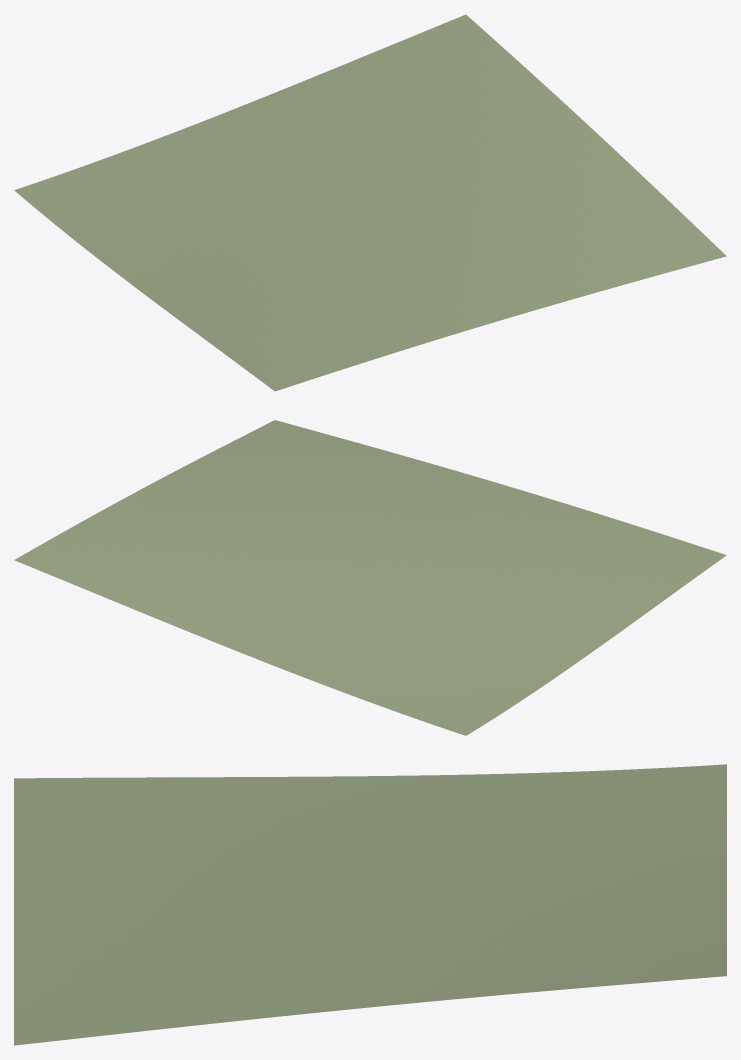
Rendered from alpine-10-13.glb.
The picture shows the model from 3 angles, top to bottom: view 1: azimuth 30°, elevation 25°; view 2: azimuth 150°, elevation 25°; view 3: azimuth 270°, elevation 25°; orthographic projection. The views are drawn at different scales.
Visible parts, largest first — view 1: alpine-10-13; view 2: alpine-10-13; view 3: alpine-10-13.
Boxes of the visible parts, left/top/right/bottom form: alpine-10-13: left=14, top=14, right=726, bottom=391; alpine-10-13: left=14, top=420, right=726, bottom=735; alpine-10-13: left=14, top=764, right=726, bottom=1045.
Bounding box in the file's own units: 256 × 41.01 × 256.
